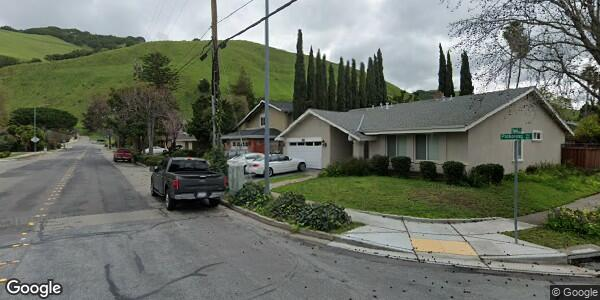Steel_Pole: (262, 1, 270, 199)
Wood_Pole: (201, 1, 229, 161)
